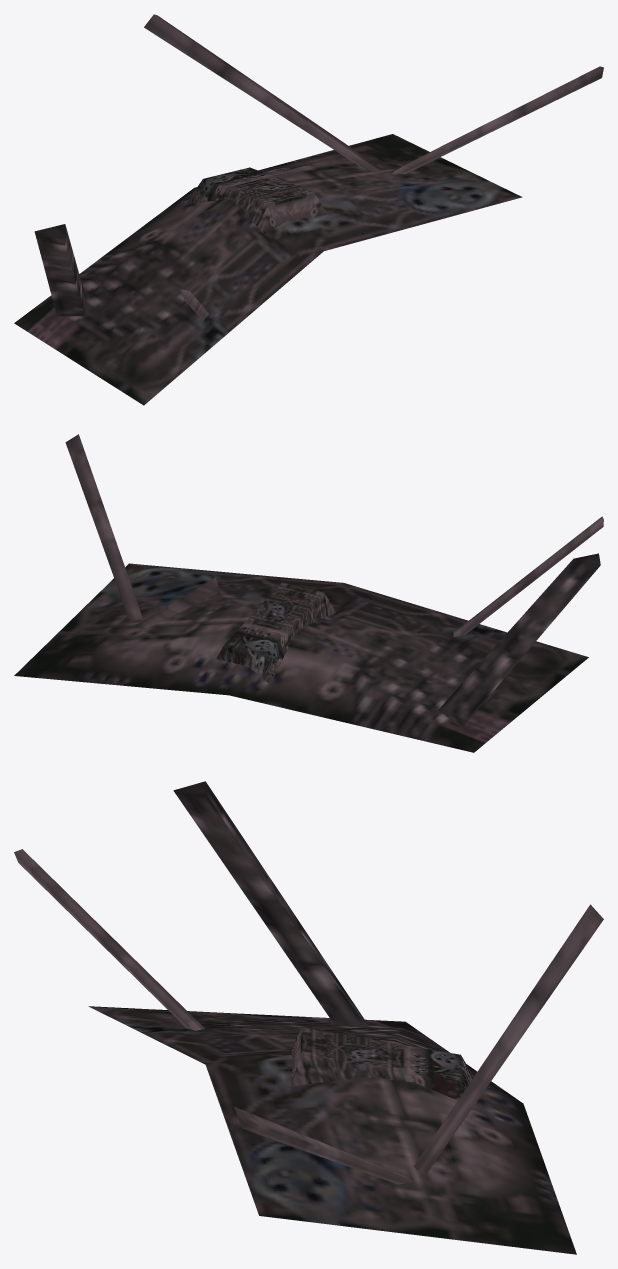
3 views of the same model, one above another, from view 1: azimuth 30°, elevation 25°; view 2: azimuth 150°, elevation 25°; view 3: azimuth 270°, elevation 25° (orthographic). The views are drawn at different scales.
Visible parts, largest first — view 1: layer_00_sect_01U; view 2: layer_00_sect_01U; view 3: layer_00_sect_01U.
Boxes of the visible parts, x1,y1,x2,y2 form: layer_00_sect_01U: [14, 14, 603, 405]; layer_00_sect_01U: [14, 434, 603, 752]; layer_00_sect_01U: [14, 781, 603, 1254].
Bounding box in the file's own units: 38.69 × 12.67 × 27.54.
1 material, 1 textured.
